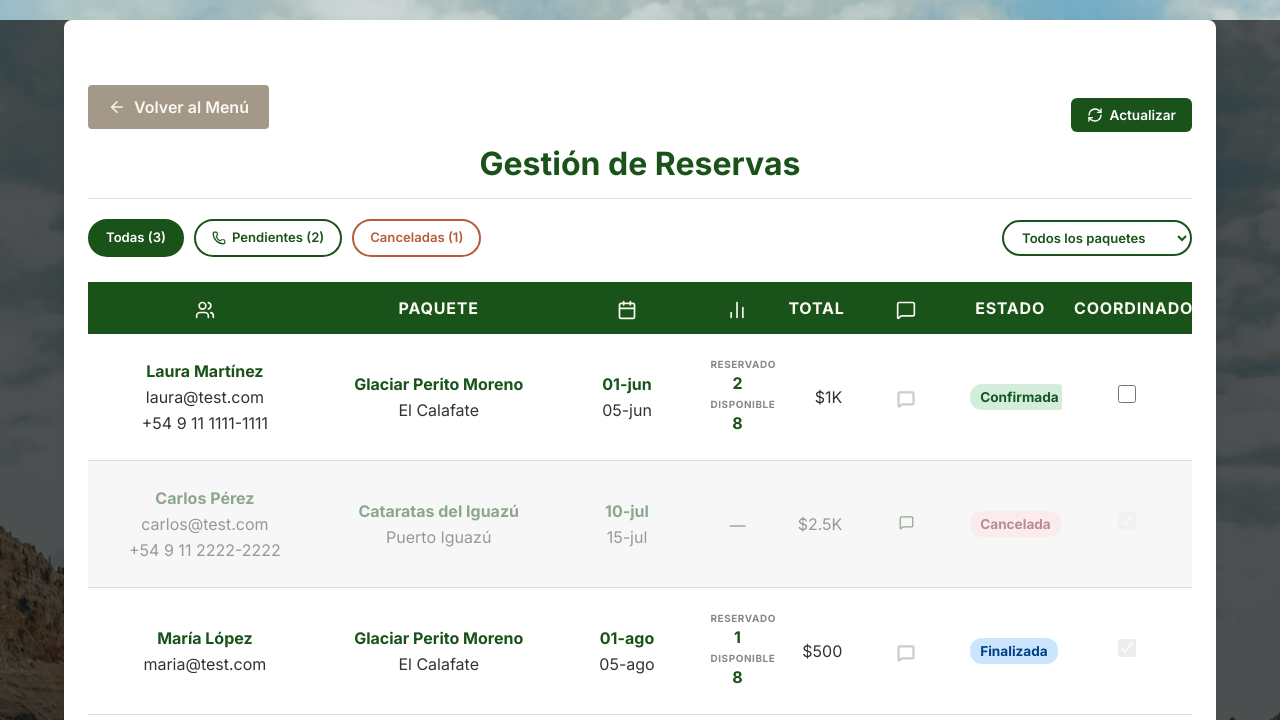
it: AdminBookingList › should filter and show only cancelled bookings
This screenshot has width=1280, height=720.
expect the text "Laura Martínez" is shown: met, box [146,361,264,381]
Click the button "Canceladas (1)": (417, 238) [352,219,481,257]
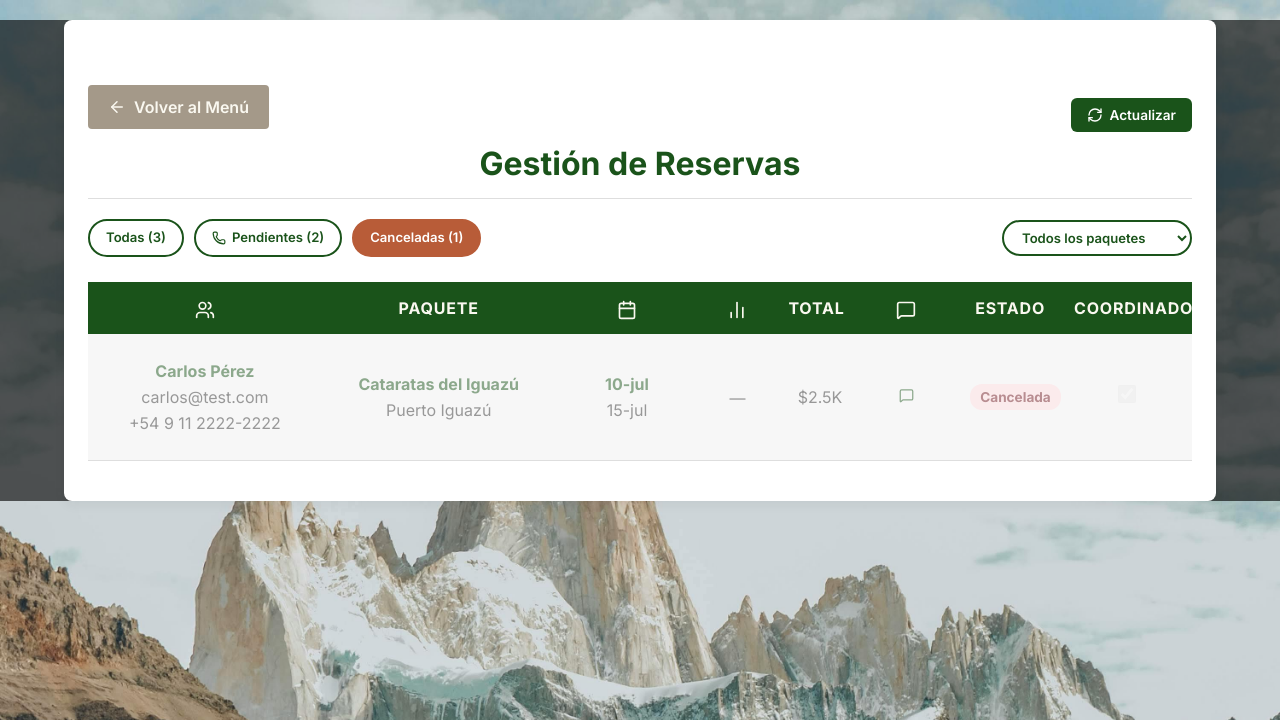
expect the text "Carlos Pérez" is shown: met, box [155,361,254,381]
expect the text "Laura Martínez" is gone: met
